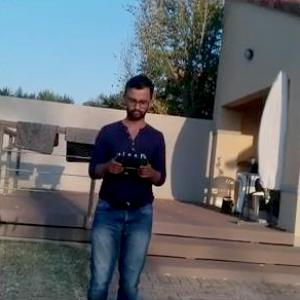follow: (81, 71, 173, 299)
